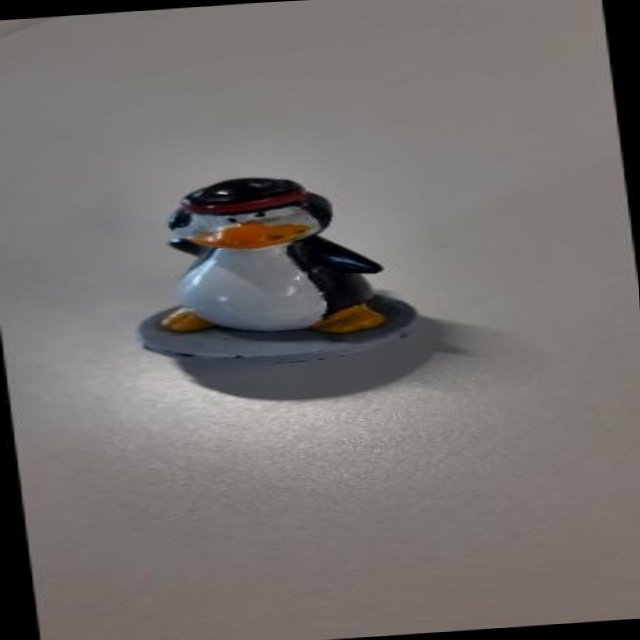Penguin: (99, 159, 460, 376)
